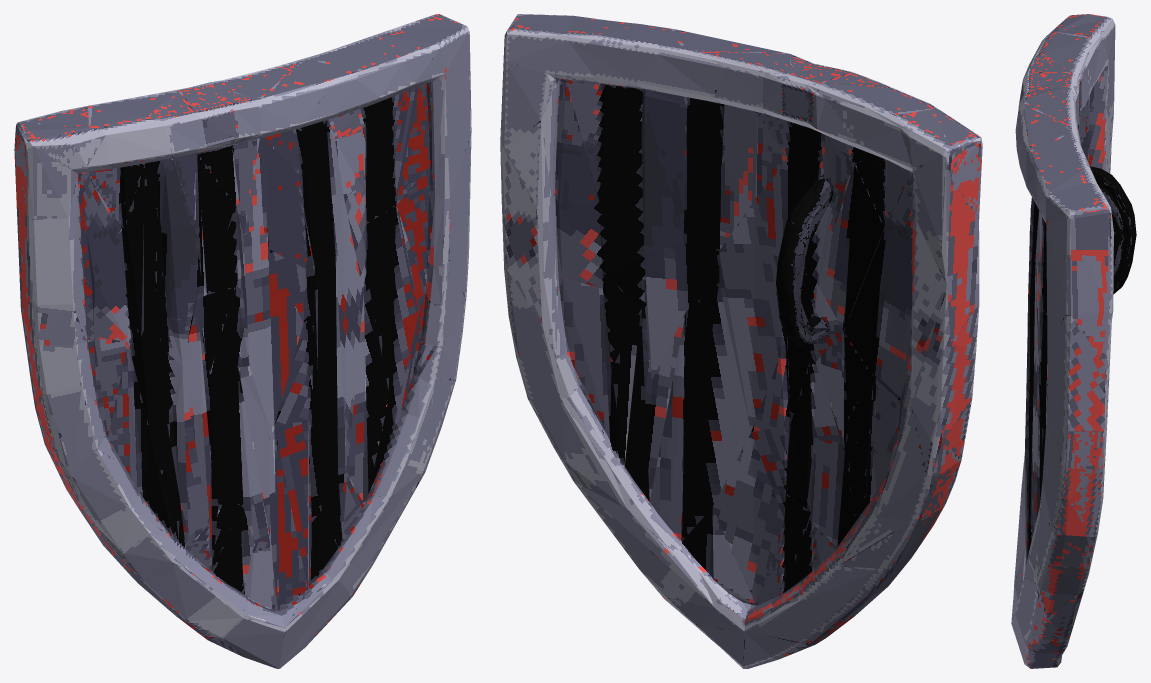
3 renders of one model, left to right at view 1: azimuth 30°, elevation 25°; view 2: azimuth 150°, elevation 25°; view 3: azimuth 270°, elevation 25°, orthographic. The views are drawn at different scales.
Visible parts, largest first — view 1: OBJ03f; view 2: OBJ03f; view 3: OBJ03f.
Part boxes in pixels (x1,y1,x2,y2): OBJ03f: (14,14,471,668); OBJ03f: (500,14,982,668); OBJ03f: (1011,14,1136,668).
Bounding box in the file's own units: 0.2861 × 0.3579 × 0.0725.
1 material, 1 textured.
